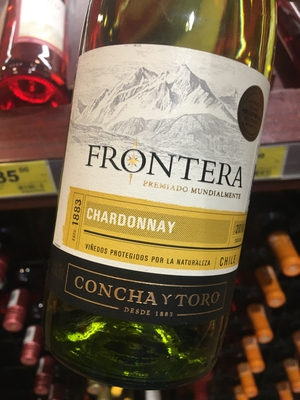frontera chardonnay: (48, 8, 273, 379)
